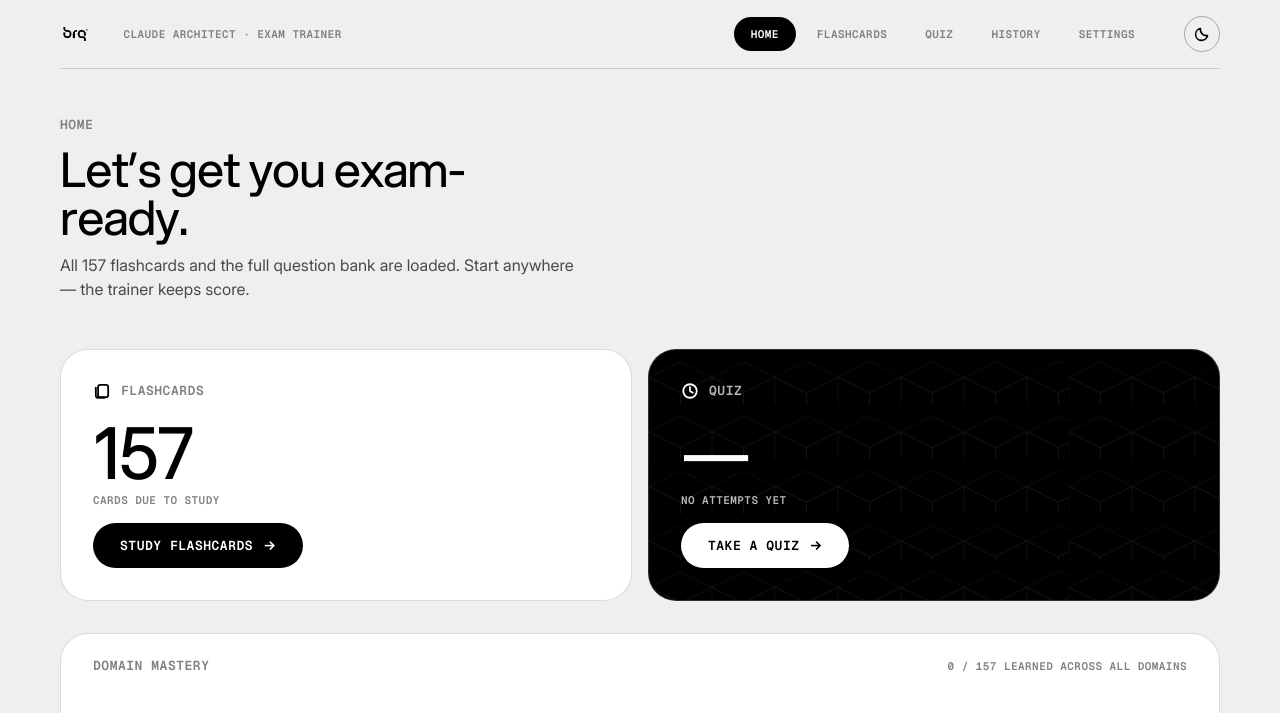
Test case: App — navigation › switches to History view when History nav tab is clicked
What coordinates should you click on to do the following:
click the button "History"
I would click on:
 (1016, 34)
Its box is x1=974 y1=17 x2=1058 y2=51.
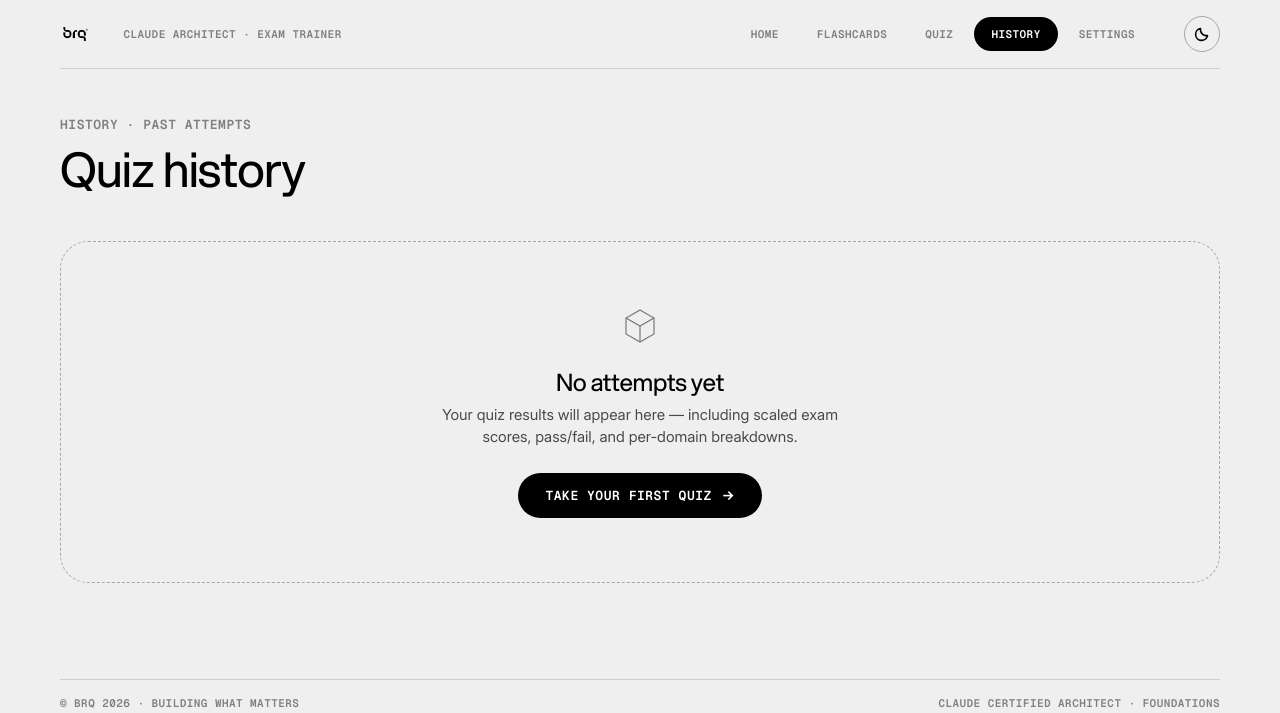
Result: the heading "Quiz history" is shown at x1=60 y1=134 x2=305 y2=203
